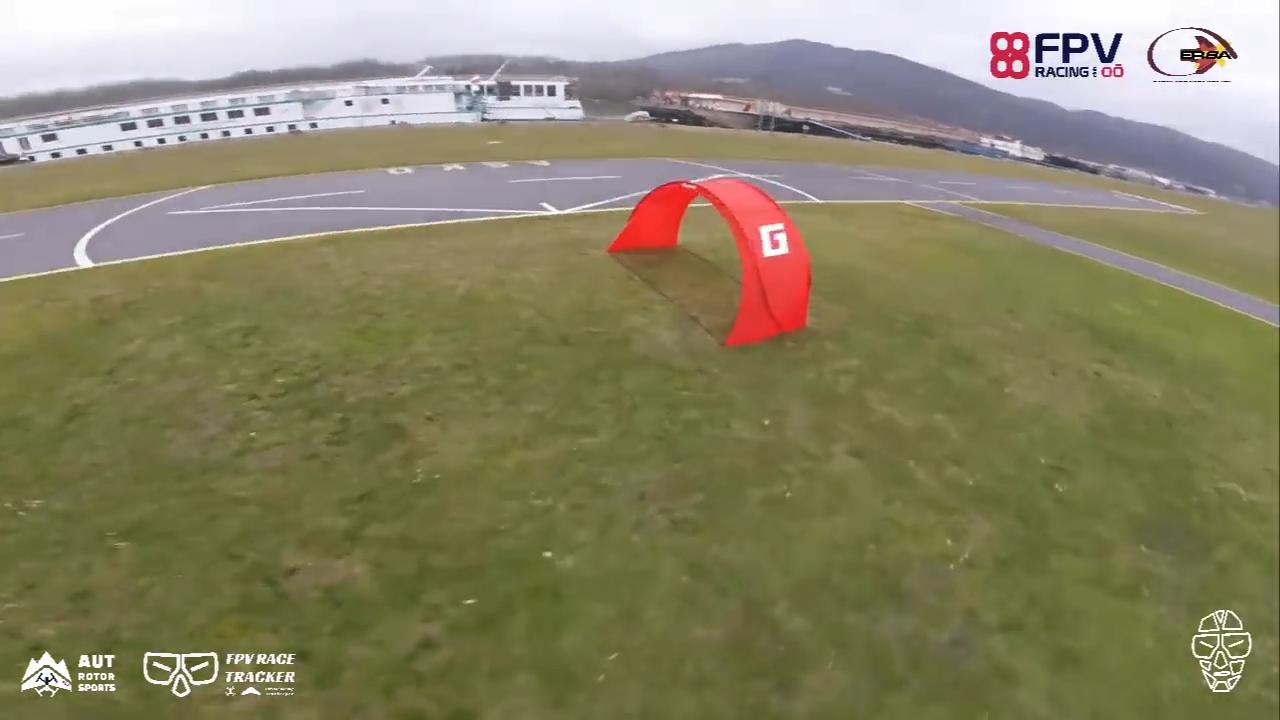gate: (604, 167, 814, 348)
